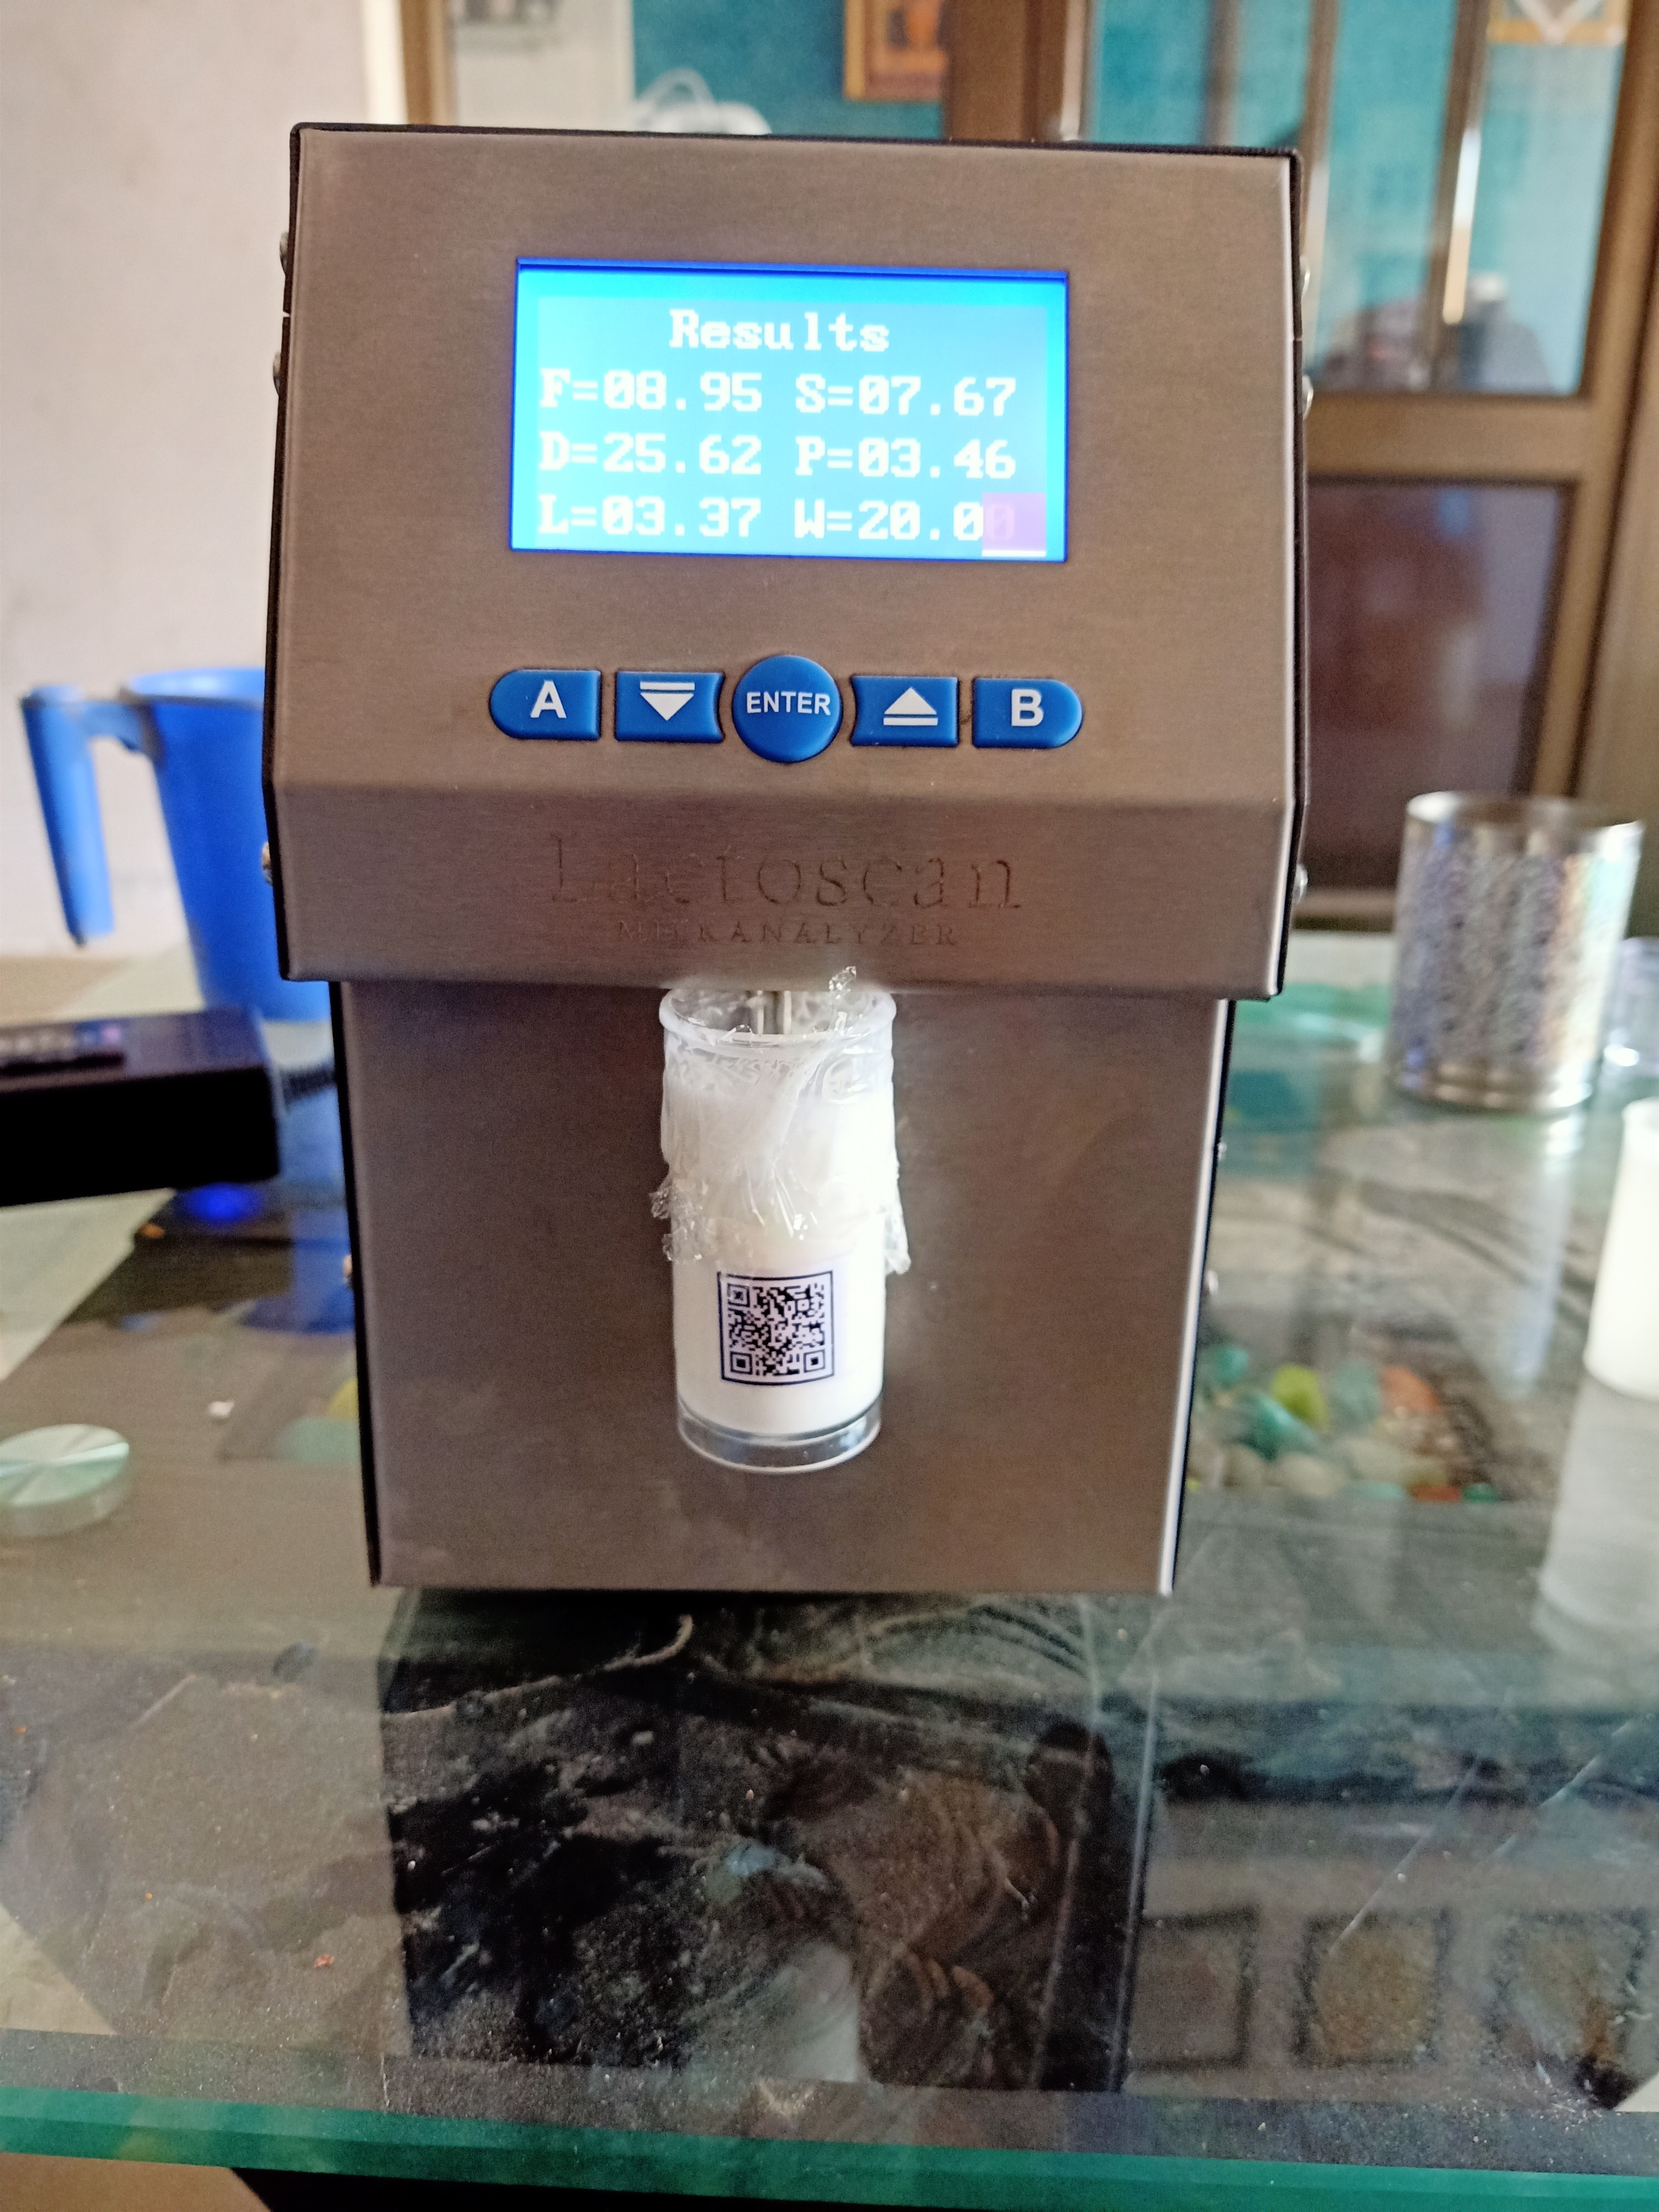lcd: (479, 232, 1105, 597)
qr: (704, 1258, 859, 1402)
